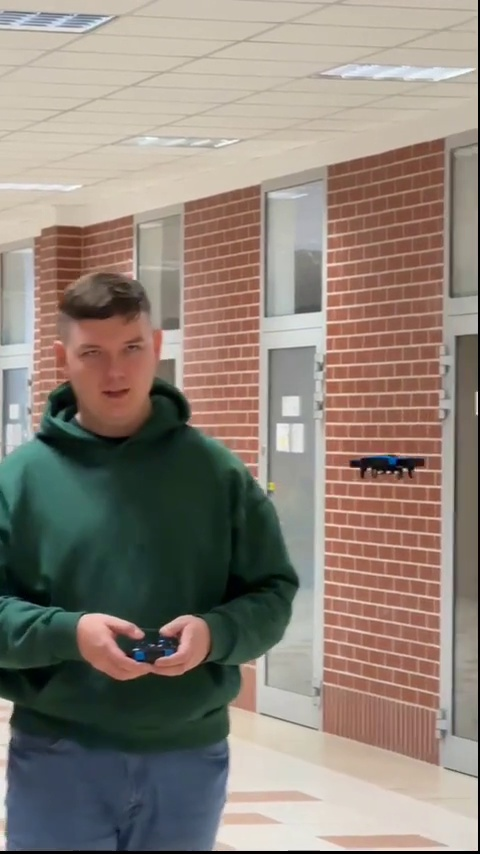drone: (352, 450, 424, 480)
no vest: (3, 272, 302, 829)
